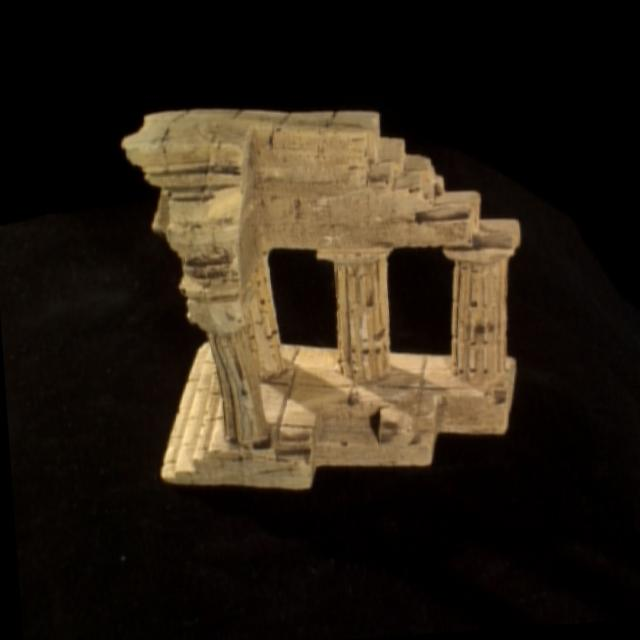Instance-Segmentation: (122, 110, 517, 489)
